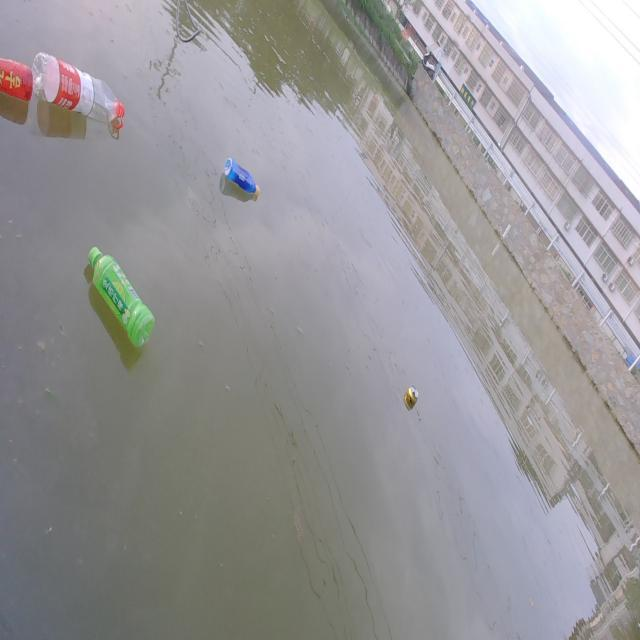bottle: (72, 224, 172, 358), (29, 26, 135, 148), (213, 136, 269, 209)
